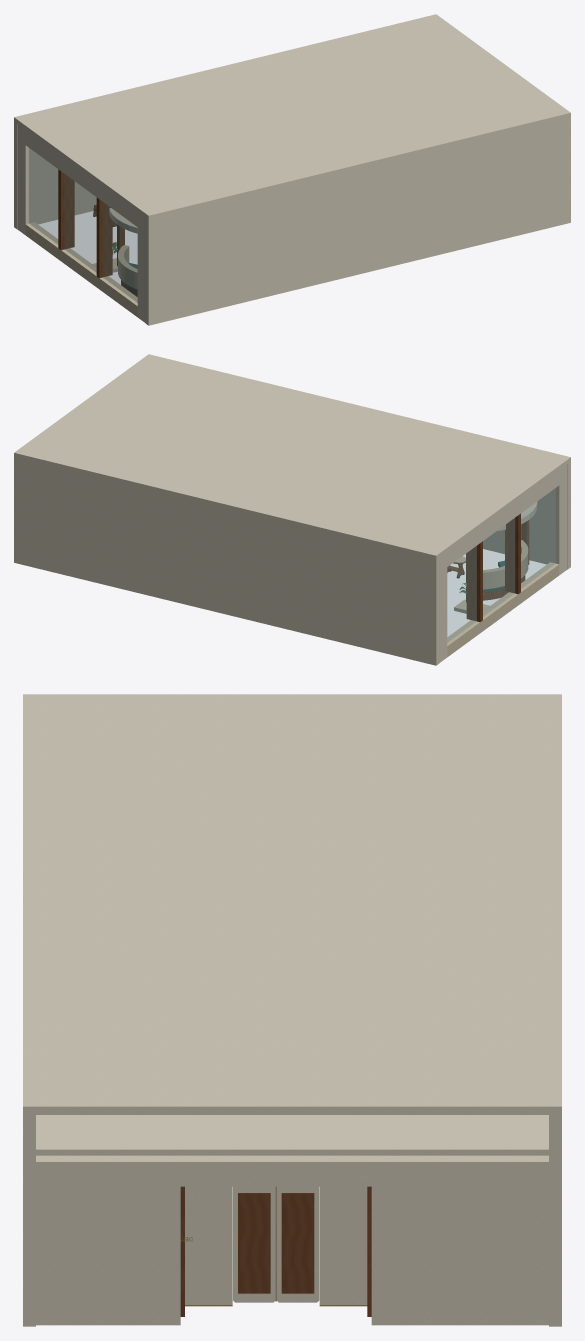
3 renders of one model, top to bottom at view 1: azimuth 30°, elevation 25°; view 2: azimuth 150°, elevation 25°; view 3: azimuth 270°, elevation 25°, orthographic. The views are drawn at different scales.
Parts seen in each view (by area): view 1: UpperPressureClosure, SouthAcousticWall, CourtSealedPane2, CourtSealedPane1, NorthAcousticWall, CourtSealedPane0, CourtSill, CourtHead, CourtWallNorth, CourtDeepMullion0, CourtDeepMullion1, CourtWallSouth (+1 smaller); view 2: UpperPressureClosure, NorthAcousticWall, CourtSealedPane2, CourtSealedPane1, CourtSealedPane0, CourtSill, SouthAcousticWall, CourtHead, CourtWallSouth, CourtDeepMullion0, CourtDeepMullion1, CourtWallNorth (+1 smaller); view 3: UpperPressureClosure, EntryForeReturn, EntryAftReturn, RisingLivingRoof, EntryHeader, PrivateEntry_01_ENTRY_PocketSkin_-1_1, PrivateEntry_01_ENTRY_PocketSkin_1_1, PrivateEntry_01_ENTRY_TimberInset_LEFT_1, PrivateEntry_01_ENTRY_TimberInset_RIGHT_1, NorthAcousticWall, SouthAcousticWall, PrivateEntry_01_ENTRY_MovingPanel_LEFT (+1 smaller).
Boxes of the visible parts, x1,y1,x2,y2 form: UpperPressureClosure: (14,14,570,219); SouthAcousticWall: (145,117,570,325); CourtSealedPane2: (103,202,137,302); CourtSealedPane1: (64,174,96,272); NorthAcousticWall: (14,121,96,229); CourtSealedPane0: (29,148,57,244); CourtSill: (25,222,137,316); CourtHead: (25,130,137,226); CourtWallNorth: (17,124,34,234); CourtDeepMullion0: (58,169,74,250); CourtDeepMullion1: (96,197,112,278); CourtWallSouth: (137,212,145,322); UpperPressureClosure: (14,354,570,559); NorthAcousticWall: (14,457,439,665); CourtSealedPane2: (521,488,555,588); CourtSealedPane1: (483,518,514,616); CourtSealedPane0: (447,546,476,642); CourtSill: (447,562,559,656); SouthAcousticWall: (483,461,570,569); CourtHead: (447,470,559,566); CourtWallSouth: (550,464,567,574); CourtDeepMullion0: (466,541,482,621); CourtDeepMullion1: (505,513,520,594); CourtWallNorth: (439,552,447,662); UpperPressureClosure: (23,694,561,1114); EntryForeReturn: (371,1155,548,1325); EntryAftReturn: (36,1155,180,1325); RisingLivingRoof: (36,1115,548,1155); EntryHeader: (180,1155,371,1186); PrivateEntry_01_ENTRY_PocketSkin_-1_1: (319,1186,367,1304); PrivateEntry_01_ENTRY_PocketSkin_1_1: (185,1186,232,1304); PrivateEntry_01_ENTRY_TimberInset_LEFT_1: (281,1193,314,1293); PrivateEntry_01_ENTRY_TimberInset_RIGHT_1: (238,1193,270,1293); NorthAcousticWall: (549,1115,561,1326); SouthAcousticWall: (23,1115,35,1326); PrivateEntry_01_ENTRY_MovingPanel_LEFT: (276,1186,319,1302).
Size of the model in its own units: 17.88 by 4.45 by 9.88.
179 materials, 172 textured.
